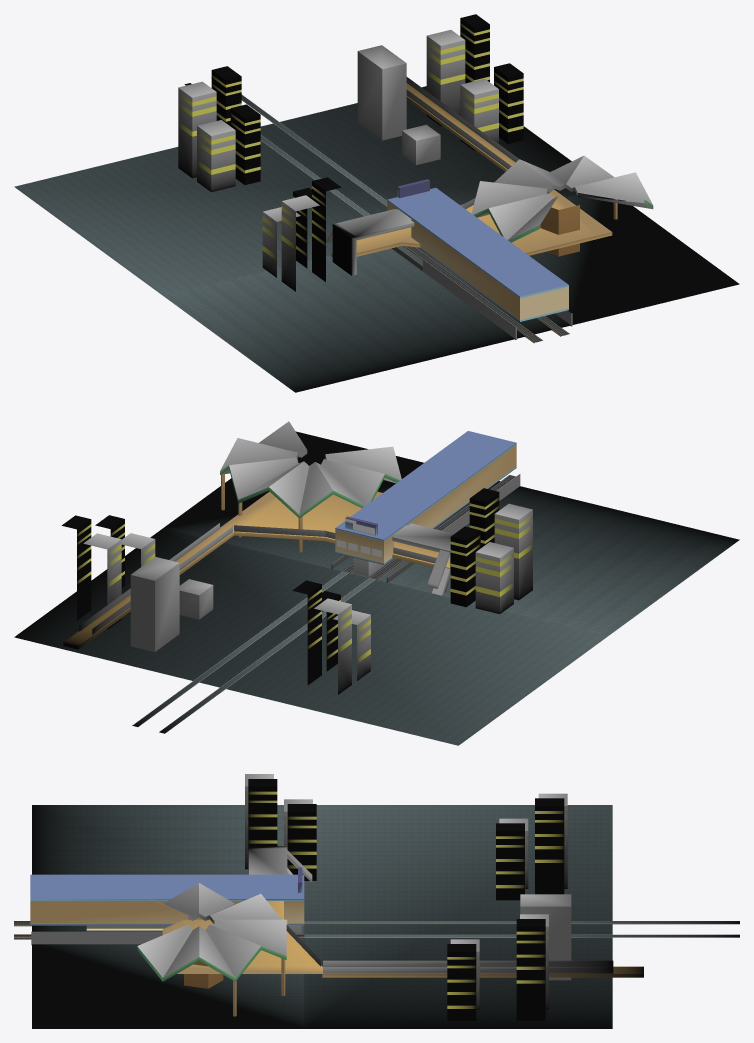
File: K_HAMAOTSU.glb
3 views of the same model, one above another, from view 1: azimuth 30°, elevation 25°; view 2: azimuth 150°, elevation 25°; view 3: azimuth 270°, elevation 25° (orthographic). The views are drawn at different scales.
Parts seen in each view (by area): view 1: hama; view 2: hama; view 3: hama.
Part boxes in pixels (left/top/right/bottom): hama: left=14, top=14, right=739, bottom=392; hama: left=14, top=421, right=739, bottom=745; hama: left=14, top=774, right=739, bottom=1028.
Size of the model in its own units: 365 by 76.21 by 500.
Materials: 10 (9 with a texture image).
